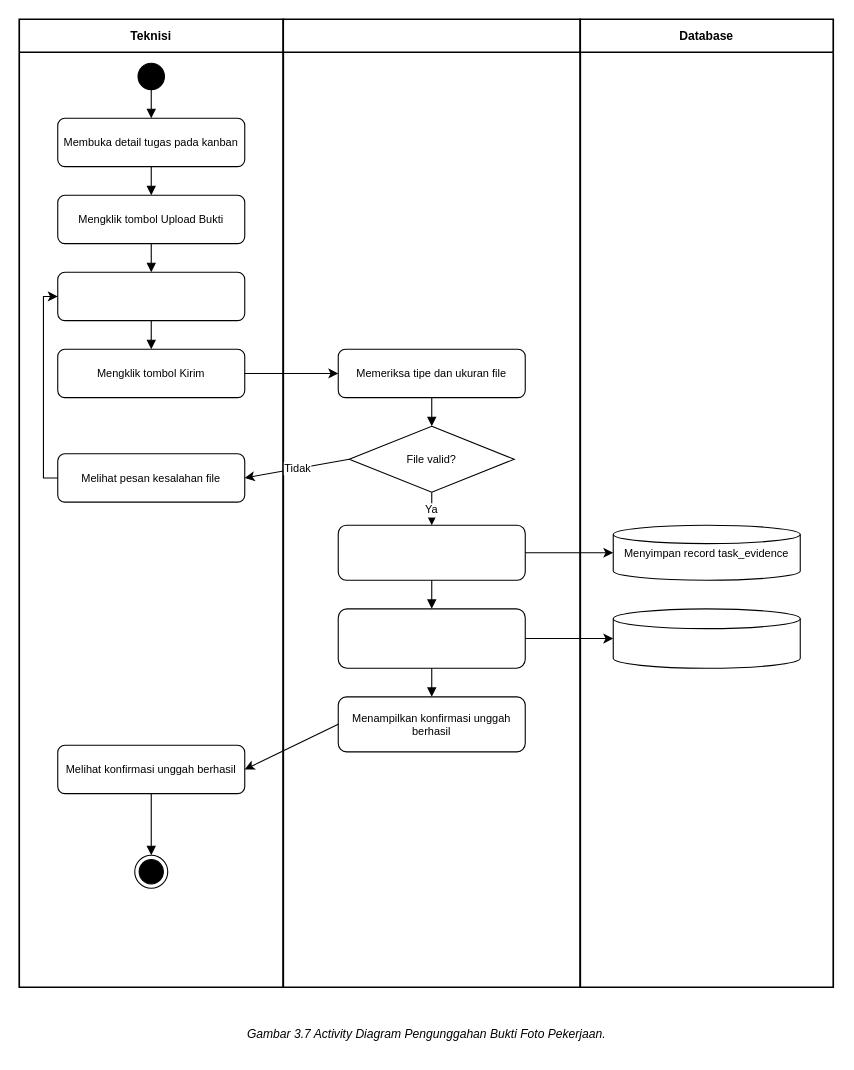
Some shapes in this 854 by 1070 pixel diagram are drawn without their labels. The box of each missing label's shape, as (x1, y1, x2, y2) in pixels:
Memilih file foto dari perangkat: (57, 271, 245, 321)
Memperbarui status tugas menjadi Working On It: (337, 608, 525, 668)
Memperbarui tasks.updated_at: (612, 608, 800, 668)
Menyimpan file ke server (uploads/): (337, 524, 525, 580)
Sistem: (282, 18, 581, 988)
